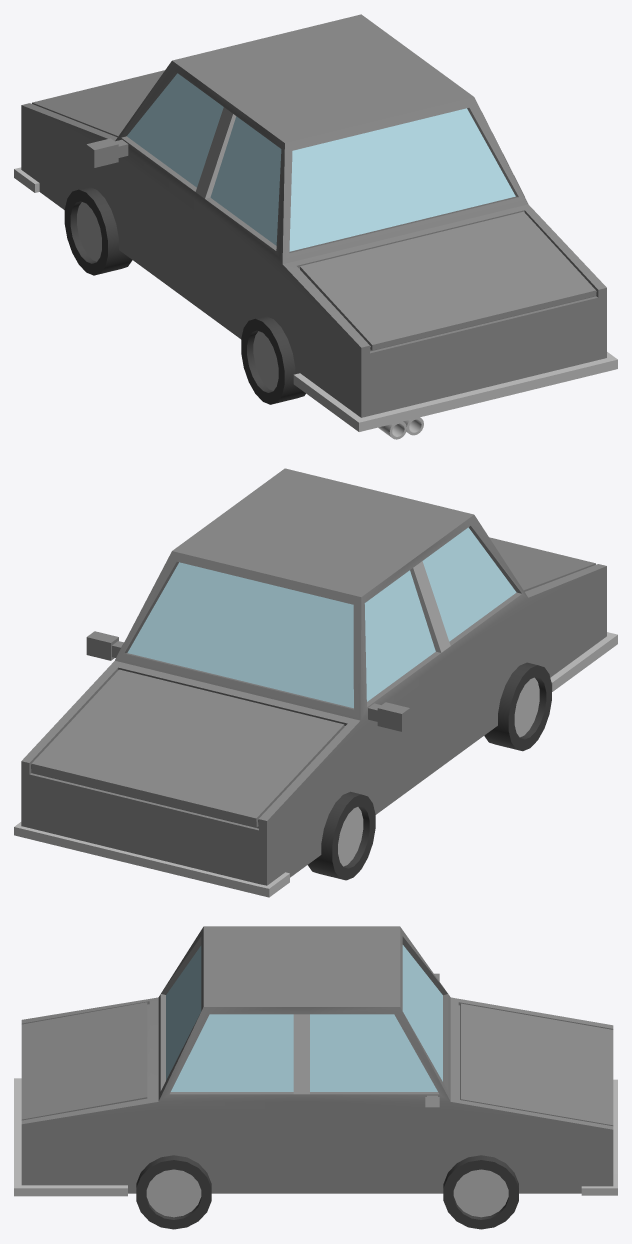
The model's file is M_Car_Other_01.FBX.
3 renders of one model, top to bottom at view 1: azimuth 30°, elevation 25°; view 2: azimuth 150°, elevation 25°; view 3: azimuth 270°, elevation 25°, orthographic. The views are drawn at different scales.
Parts seen in each view (by area): view 1: Car001; view 2: Car001; view 3: Car001.
Part boxes in pixels (x1=…): Car001: x1=14, y1=14, x2=617, y2=439; Car001: x1=14, y1=468, x2=617, y2=897; Car001: x1=14, y1=926, x2=617, y2=1229.
Bounding box in the file's own units: 1.44 × 2.74 × 1.03.
